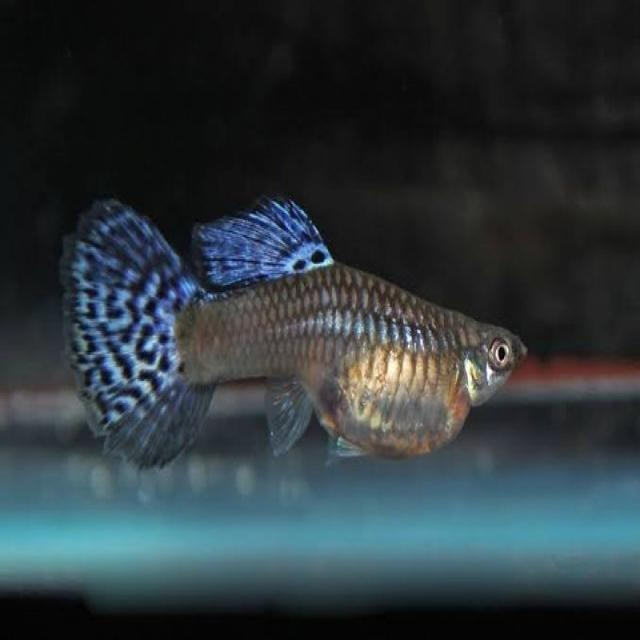Mulut: (494, 309, 546, 381)
Sirip Anal: (248, 362, 318, 470)
Sirip Dada: (398, 320, 469, 418)
Sirip Ekor: (46, 178, 224, 496)
Sirip Perut: (308, 410, 372, 482)
Sirip Punggung: (175, 182, 349, 298)
